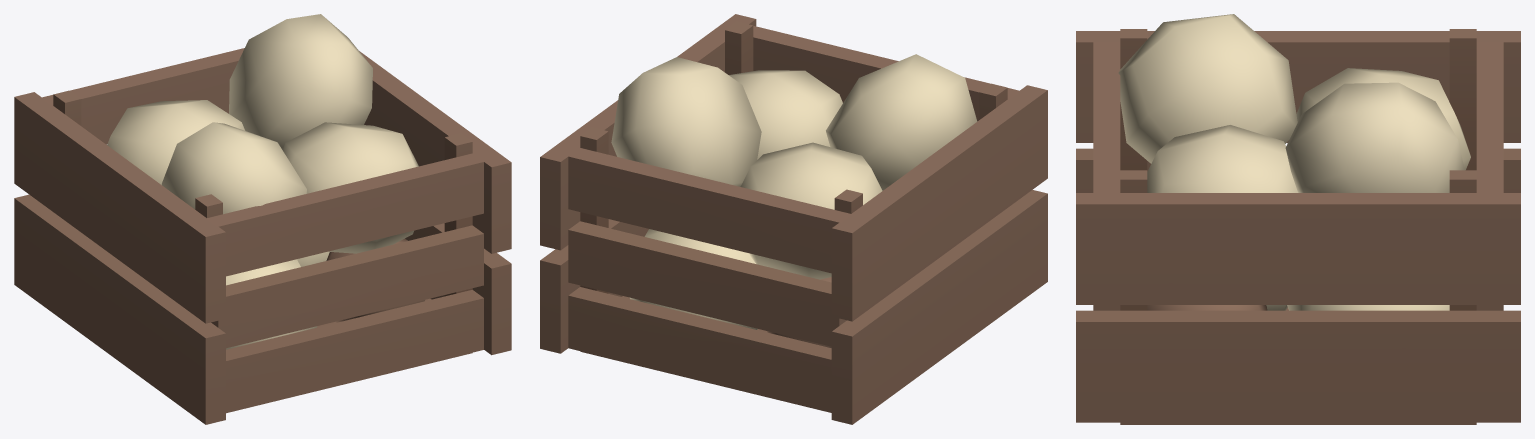
Rendered from box-with-dough.glb.
3 views of the same model, side by side, from view 1: azimuth 30°, elevation 25°; view 2: azimuth 150°, elevation 25°; view 3: azimuth 270°, elevation 25° (orthographic). The views are drawn at different scales.
Visible parts, largest first — view 1: BoxWithDough.001; view 2: BoxWithDough.001; view 3: BoxWithDough.001.
Boxes of the visible parts, bbox=[...] form: BoxWithDough.001: bbox=[14, 14, 511, 424]; BoxWithDough.001: bbox=[540, 14, 1047, 424]; BoxWithDough.001: bbox=[1076, 14, 1520, 424].
Bounding box in the file's own units: 0.5862 × 0.4807 × 0.6357.
Materials: 1 (1 with a texture image).
